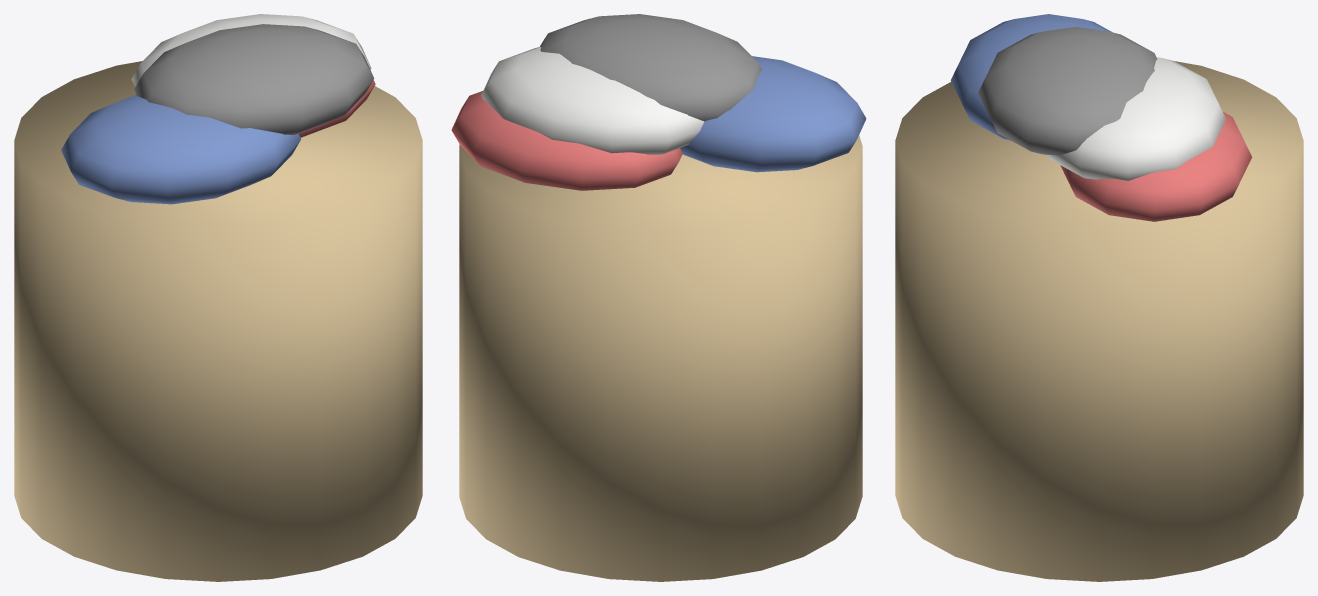
Rendered from laundry_basket.glb.
3 views of the same model, side by side, from view 1: azimuth 30°, elevation 25°; view 2: azimuth 150°, elevation 25°; view 3: azimuth 270°, elevation 25° (orthographic).
Visible parts, largest first — view 1: Cylinder, Sphere.003, Sphere.001, Sphere.002; view 2: Cylinder, Sphere.003, Sphere.002, Sphere.001, Sphere; view 3: Cylinder, Sphere.003, Sphere.002, Sphere, Sphere.001.
Part boxes in pixels (x1,y1,x2,y2): Cylinder: [14, 61, 422, 581]; Sphere.003: [134, 24, 374, 134]; Sphere.001: [61, 95, 300, 204]; Sphere.002: [131, 14, 371, 86]; Cylinder: [459, 135, 862, 581]; Sphere.003: [539, 14, 761, 121]; Sphere.002: [481, 46, 704, 154]; Sphere.001: [680, 56, 866, 172]; Sphere: [451, 91, 682, 190]; Cylinder: [895, 61, 1303, 581]; Sphere.003: [978, 26, 1156, 155]; Sphere.002: [1048, 57, 1226, 180]; Sphere: [1060, 112, 1252, 221]; Sphere.001: [950, 14, 1111, 140].
Bounding box in the file's own units: 0.5 × 0.614 × 0.5.
